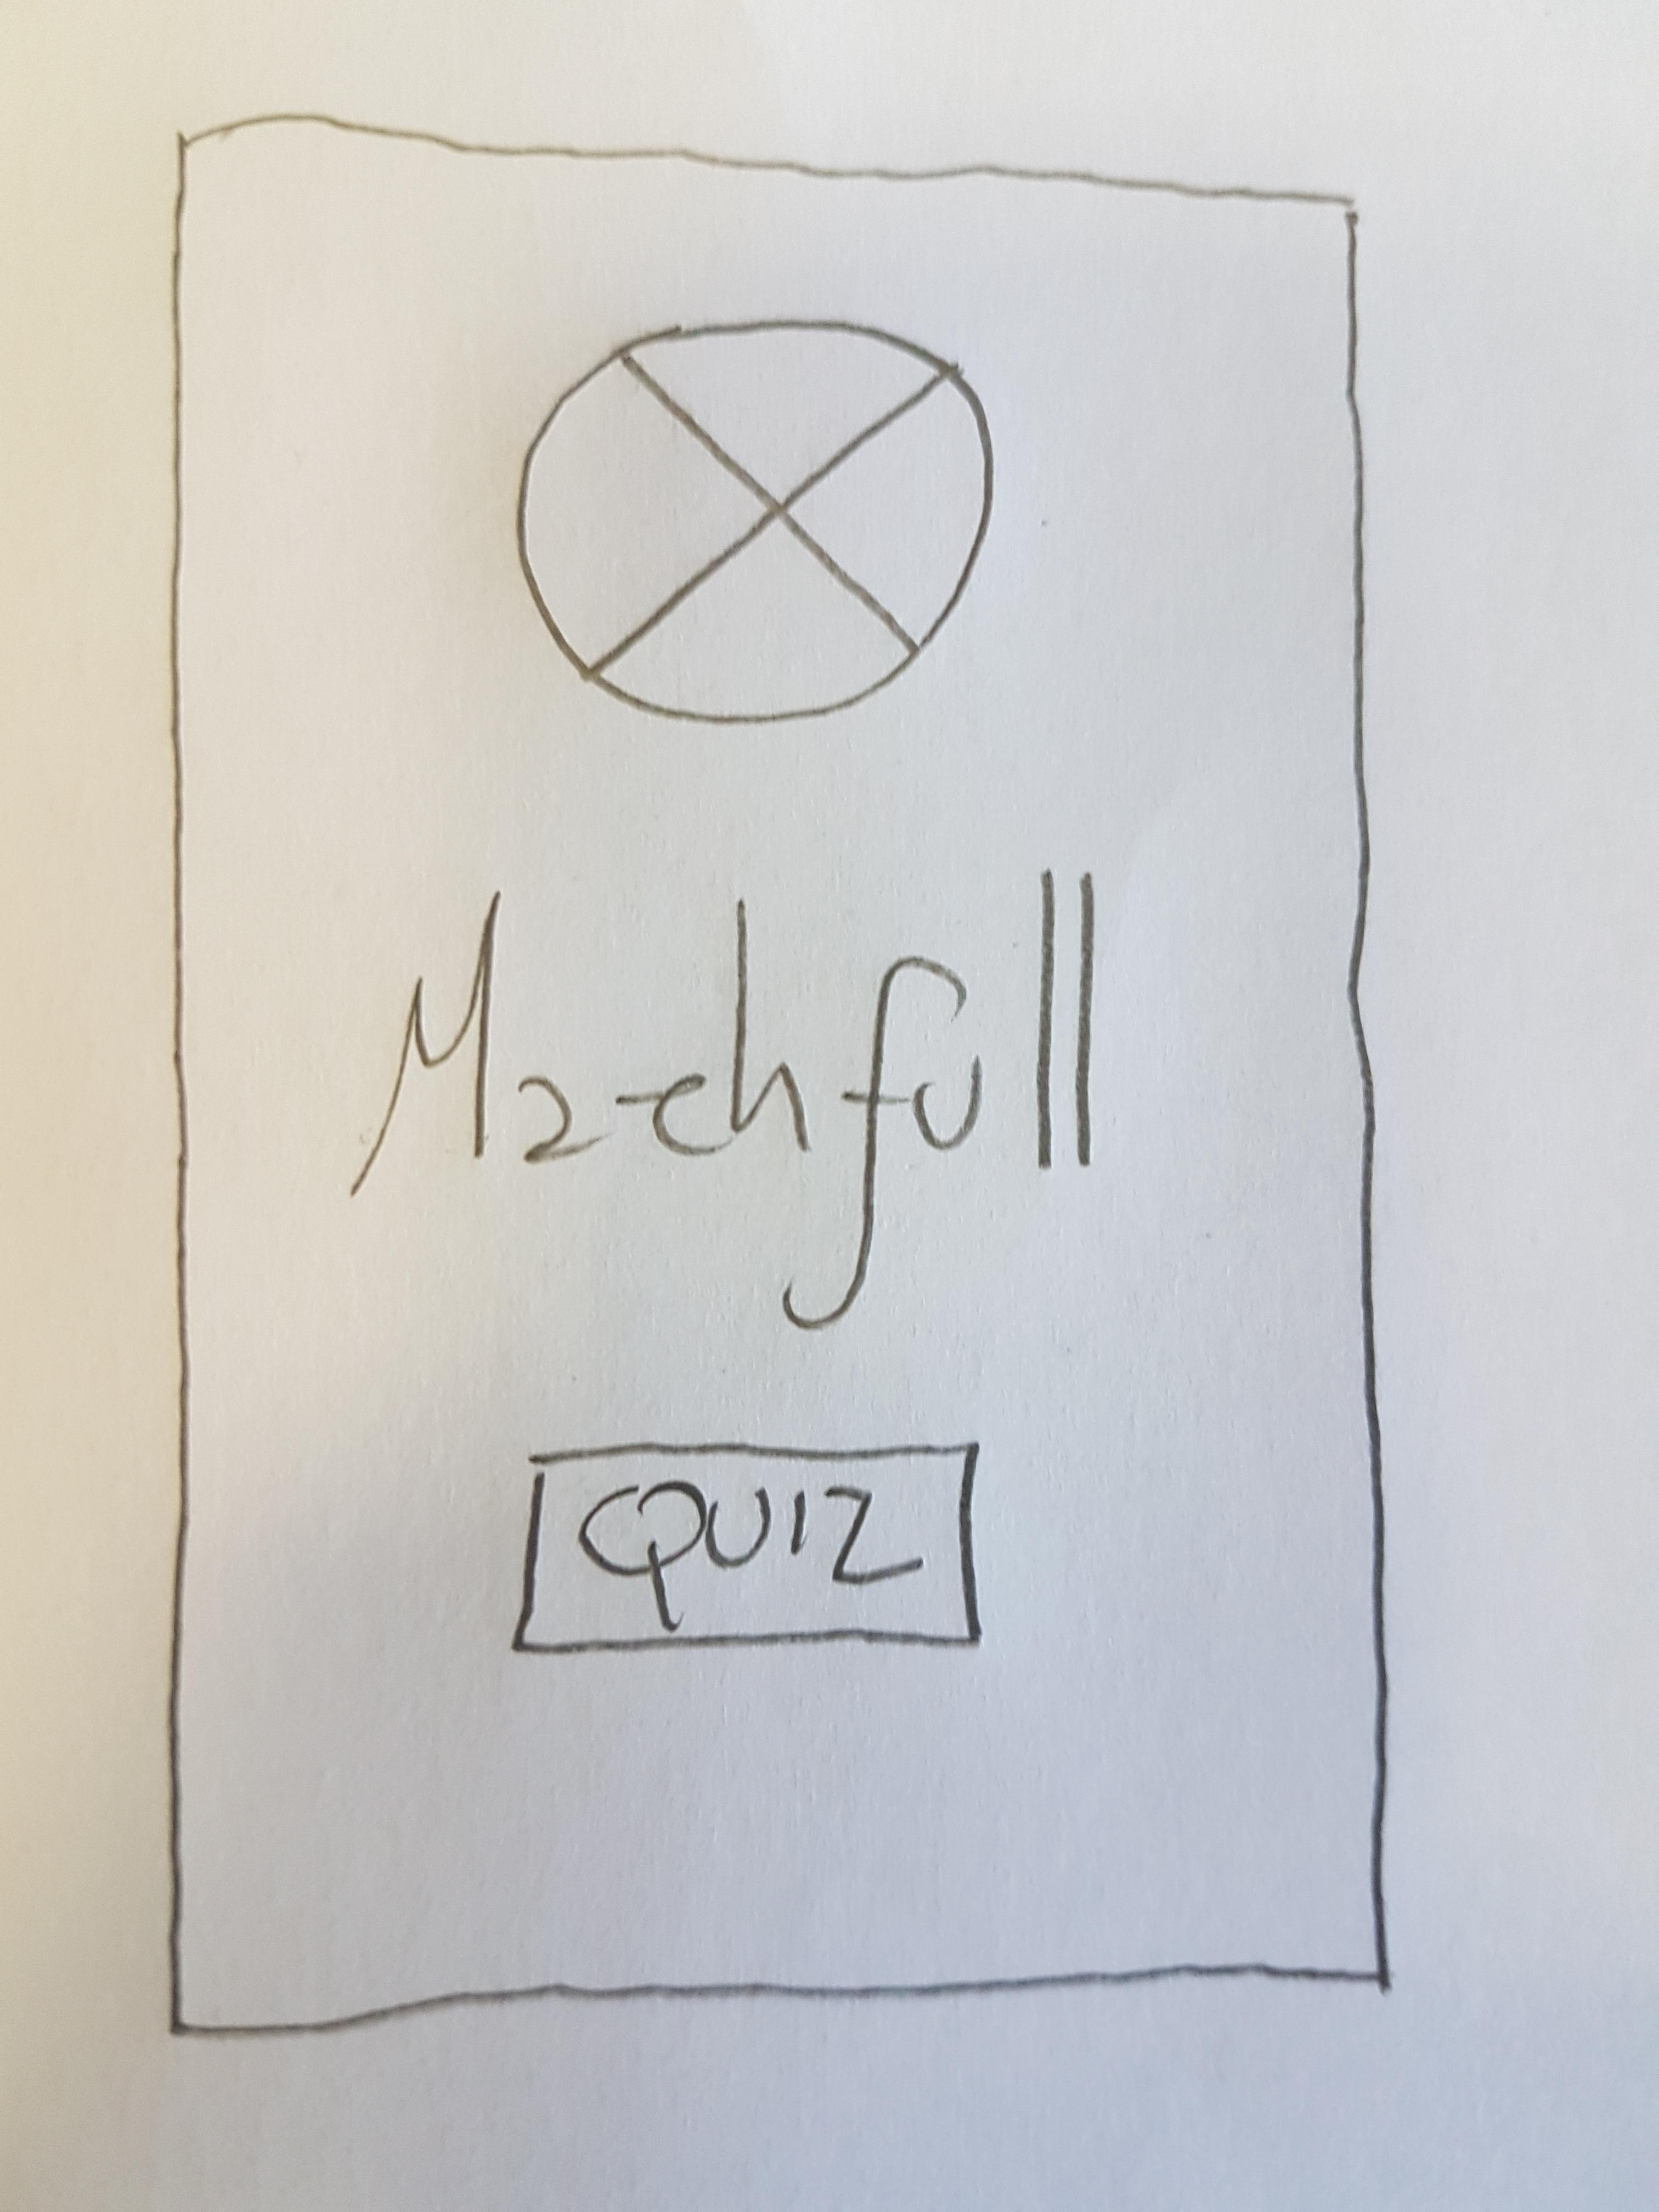Button: (511, 1440, 983, 1658)
Image: (512, 317, 995, 726)
Label: (345, 871, 1098, 1332)
Screen: (166, 113, 1389, 2041)
